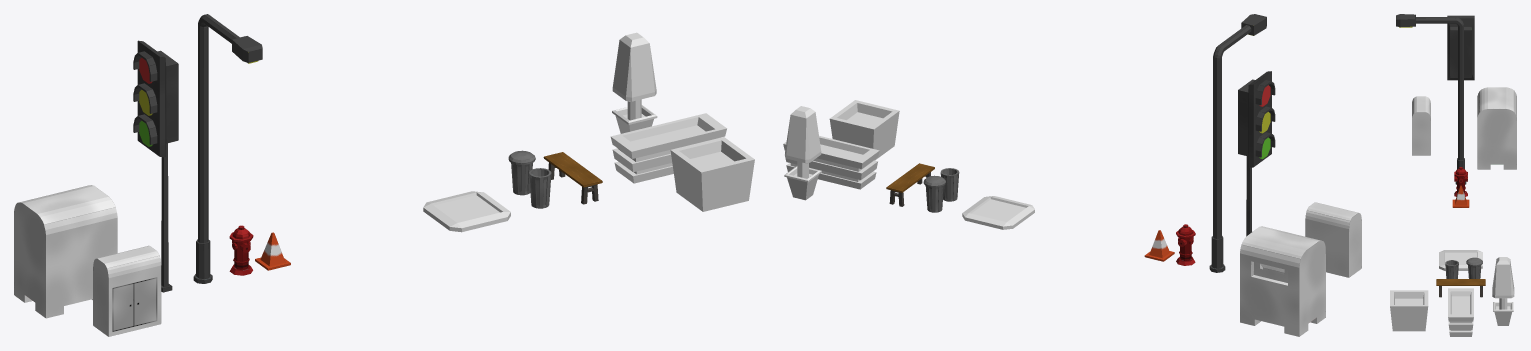
File: road props.fbx
The picture shows the model from 3 angles, left to right: view 1: azimuth 30°, elevation 25°; view 2: azimuth 150°, elevation 25°; view 3: azimuth 270°, elevation 25°; orthographic projection. The views are drawn at different scales.
Visible parts, largest first — view 1: postBox, electricBox, pot_2, lightPole_1, pot_1, pole, tree, beton, grass, cuboid_4, trash01, trash02 (+5 smaller); view 2: postBox, electricBox, pole, pot_2, pot_1, lightPole_1, tree, beton, pot, grass, trash01, cuboid_4 (+3 smaller); view 3: postBox, lightPole_1, pot_2, pole, electricBox, pot_1, tree, dirt_1, pot, cuboid_4, beton, grass (+6 smaller).
Part boxes in pixels (box(x1,y1,x2,y2)): postBox: box(14, 185, 117, 318); electricBox: box(93, 245, 161, 336); pot_2: box(670, 137, 754, 211); lightPole_1: box(137, 40, 178, 292); pot_1: box(610, 113, 726, 183); pole: box(193, 14, 239, 283); tree: box(612, 32, 656, 101); beton: box(423, 191, 510, 232); grass: box(434, 195, 499, 222); cuboid_4: box(543, 152, 602, 187); trash01: box(508, 150, 535, 195); trash02: box(529, 168, 551, 208); postBox: box(1240, 226, 1325, 336); electricBox: box(1305, 202, 1361, 277); pole: box(1209, 25, 1251, 272); pot_2: box(829, 100, 899, 160); pot_1: box(783, 135, 879, 189); lightPole_1: box(1238, 71, 1271, 236); tree: box(785, 106, 821, 163); beton: box(962, 196, 1034, 229); pot: box(784, 166, 821, 200); grass: box(971, 199, 1025, 222); trash01: box(923, 175, 945, 212); cuboid_4: box(886, 163, 934, 192); postBox: box(1477, 87, 1516, 169); lightPole_1: box(1447, 15, 1474, 80); pot_2: box(1390, 290, 1428, 331); pole: box(1416, 17, 1466, 184); electricBox: box(1412, 96, 1430, 155); pot_1: box(1448, 288, 1473, 336); tree: box(1492, 257, 1514, 298); dirt_1: box(1451, 296, 1470, 314); pot: box(1493, 302, 1513, 325); cuboid_4: box(1436, 279, 1485, 285); beton: box(1439, 250, 1482, 270); grass: box(1445, 252, 1476, 264).
Bounding box in the file's own units: 4297 × 1762 × 1162.
Materials: 8 (8 with a texture image).
